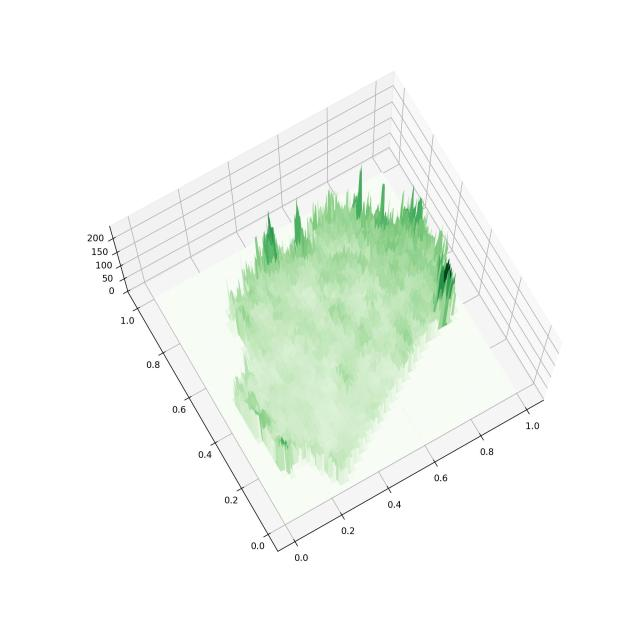fir: (67, 35, 591, 598)
